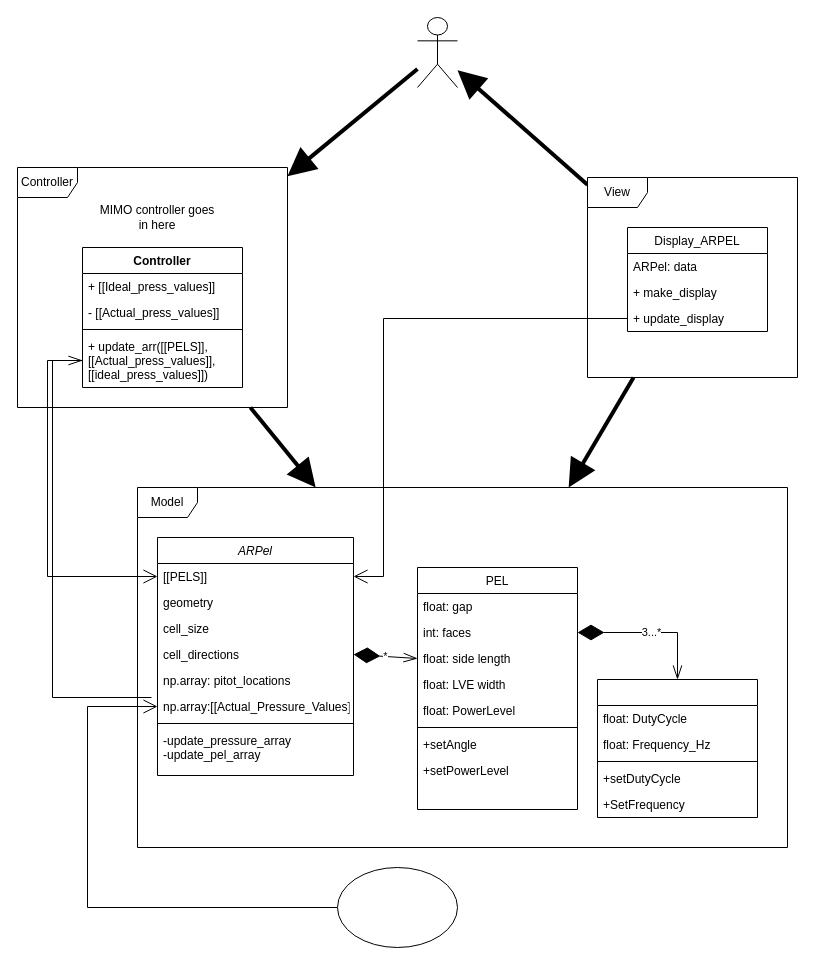
This 815x965 diagram has some shape labels left out. Here are the shapes that lost their labels. From the top down, the box of each, then its label:
(416, 16, 458, 88): User
(596, 678, 758, 818): Switch
(336, 866, 458, 948): Environment
